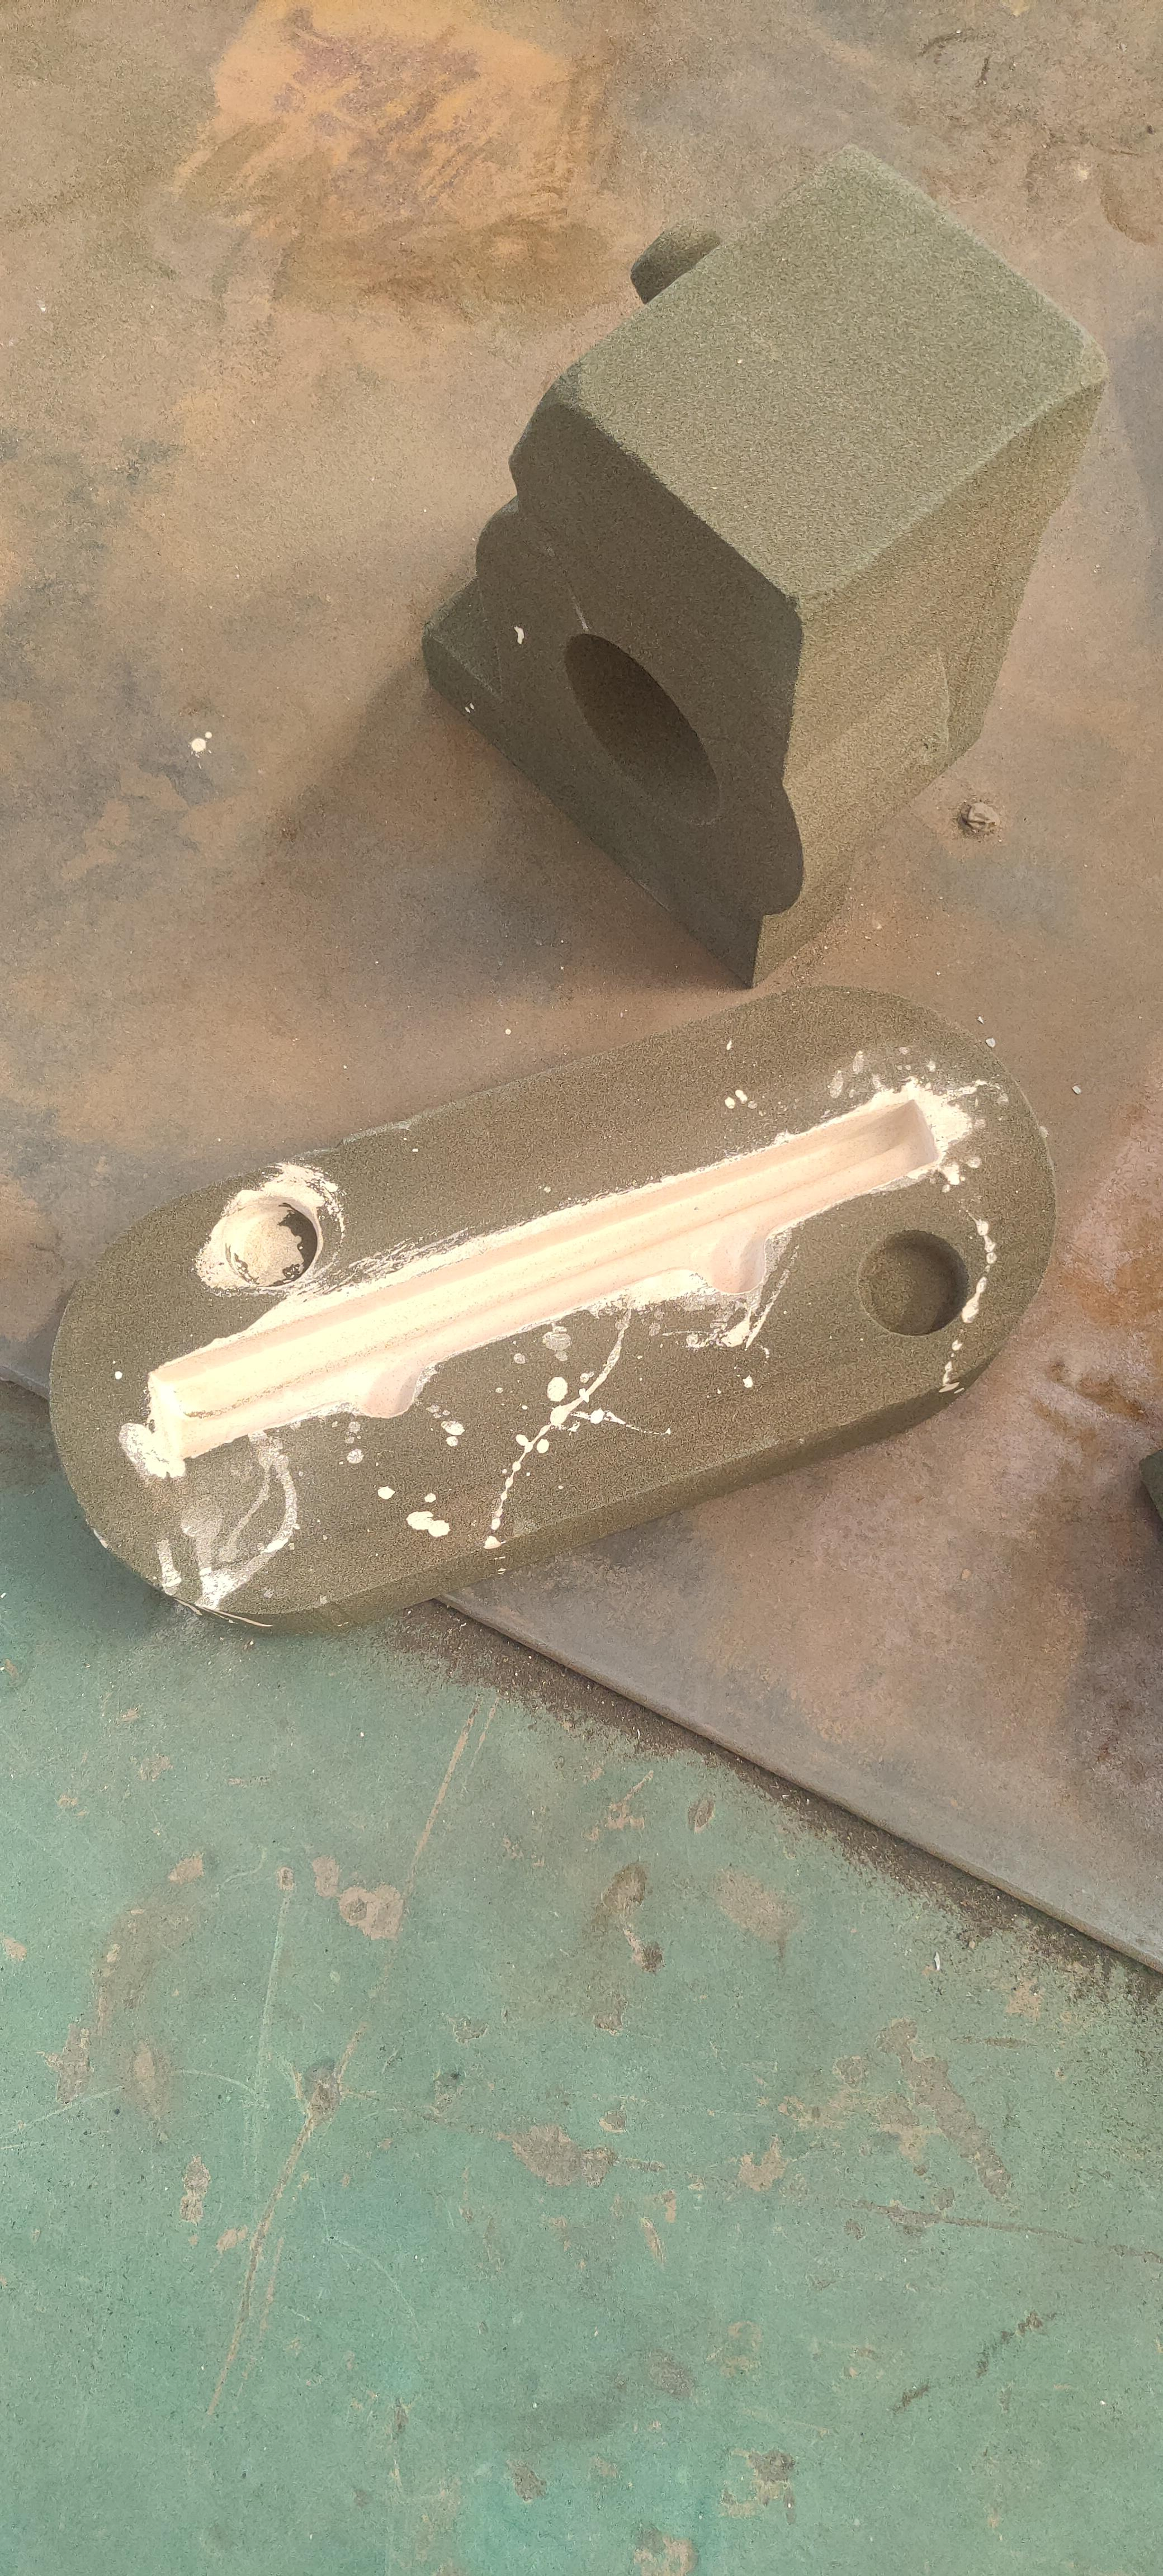pouring hole: (565, 633, 719, 823)
